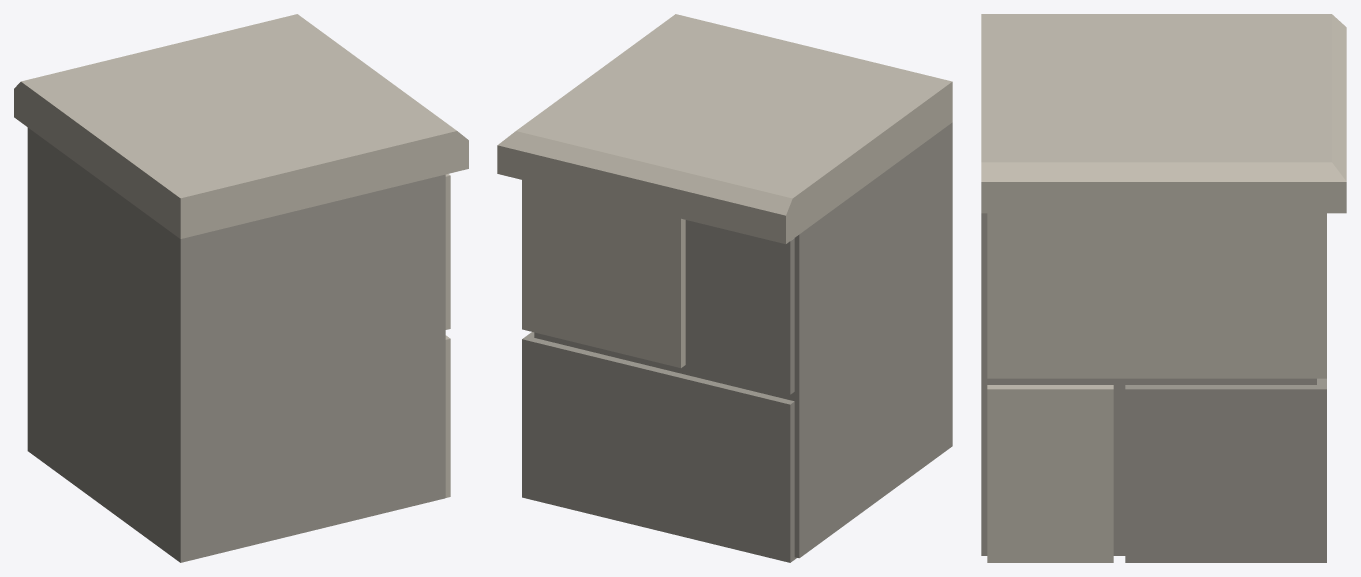
The model's file is FMS_Garden_Pond_Edge_Corner.fbx.
3 views of the same model, side by side, from view 1: azimuth 30°, elevation 25°; view 2: azimuth 150°, elevation 25°; view 3: azimuth 270°, elevation 25° (orthographic). The views are drawn at different scales.
Visible parts, largest first — view 1: FMS_Garden_Pond_Edge_Corner_Body; view 2: FMS_Garden_Pond_Edge_Corner_Body; view 3: FMS_Garden_Pond_Edge_Corner_Body.
Boxes of the visible parts, x1=… form: FMS_Garden_Pond_Edge_Corner_Body: x1=14, y1=14, x2=468, y2=562; FMS_Garden_Pond_Edge_Corner_Body: x1=497, y1=14, x2=952, y2=562; FMS_Garden_Pond_Edge_Corner_Body: x1=981, y1=14, x2=1346, y2=562.
Size of the model in its own units: 0.37 by 0.45 by 0.37.
Materials: 1 (1 with a texture image).
